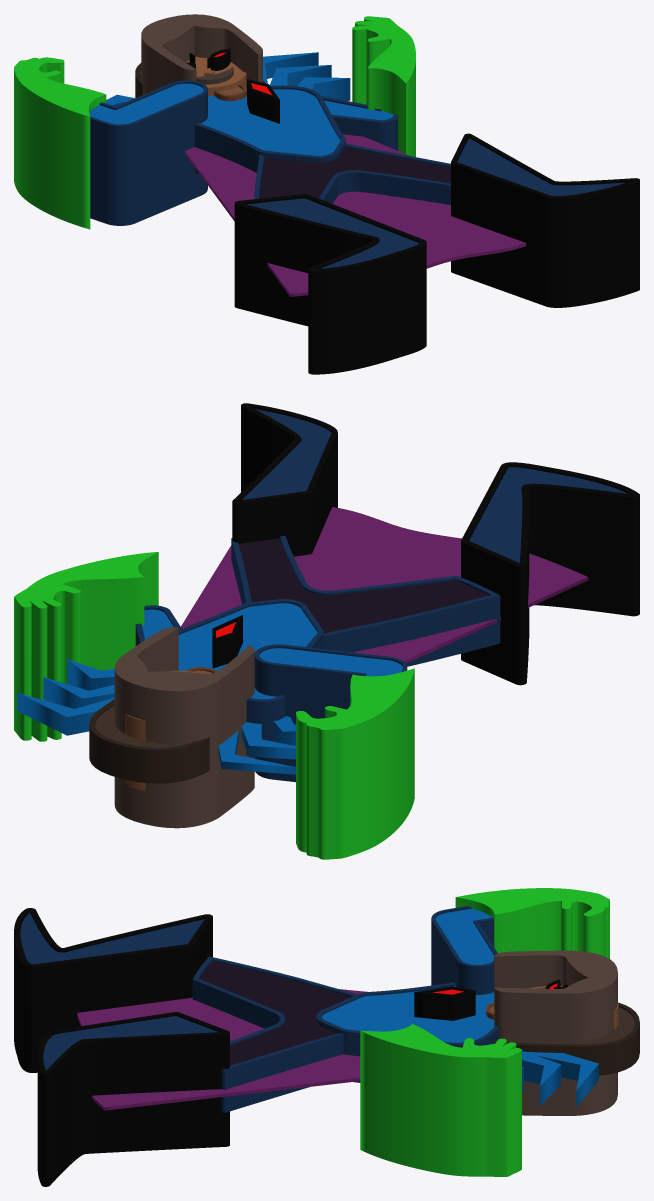
File: emoji_u1f9b9_1f3fe_200d_2640.glb
The picture shows the model from 3 angles, top to bottom: view 1: azimuth 30°, elevation 25°; view 2: azimuth 150°, elevation 25°; view 3: azimuth 270°, elevation 25°; orthographic projection. The views are drawn at different scales.
Parts seen in each view (by area): view 1: emoji_u1f9b9_1f3fe_200d_2640; view 2: emoji_u1f9b9_1f3fe_200d_2640; view 3: emoji_u1f9b9_1f3fe_200d_2640.
Boxes of the visible parts, x1,y1,x2,y2 form: emoji_u1f9b9_1f3fe_200d_2640: (14,14,639,374); emoji_u1f9b9_1f3fe_200d_2640: (14,403,639,859); emoji_u1f9b9_1f3fe_200d_2640: (14,888,639,1186).
Bounding box in the file's own units: 0.0239 × 0.0074 × 0.0343.
